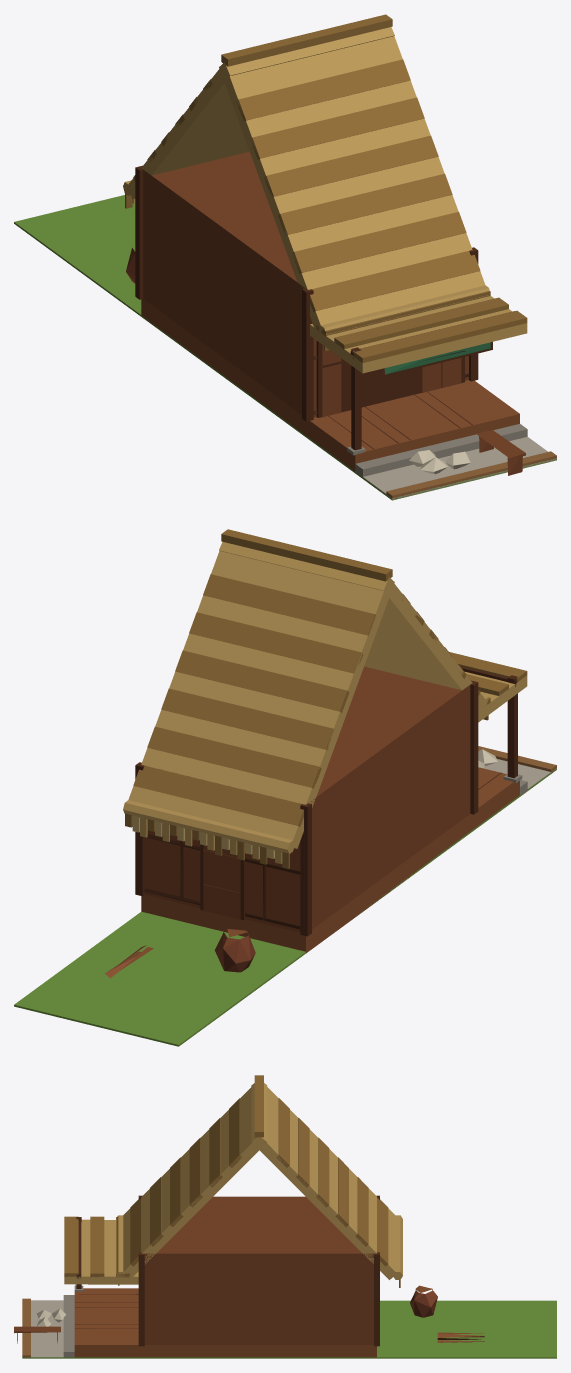
File: bay1_mid2.glb
The picture shows the model from 3 angles, top to bottom: view 1: azimuth 30°, elevation 25°; view 2: azimuth 150°, elevation 25°; view 3: azimuth 270°, elevation 25°; orthographic projection. The views are drawn at different scales.
Visible parts, largest first — view 1: body; view 2: body; view 3: body.
Part boxes in pixels (x1,y1,x2,y2): body: [14, 14, 556, 500]; body: [14, 529, 556, 1046]; body: [14, 1075, 556, 1358].
Bounding box in the file's own units: 4.18 × 7.45 × 16.15.
